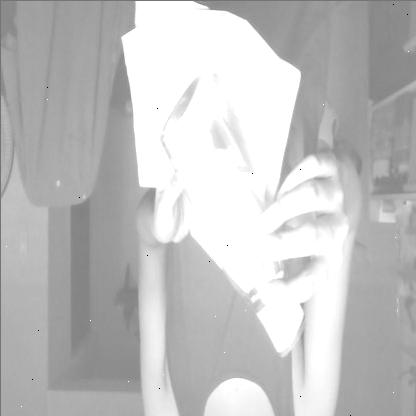Plastic Bottle: (157, 73, 303, 358)
